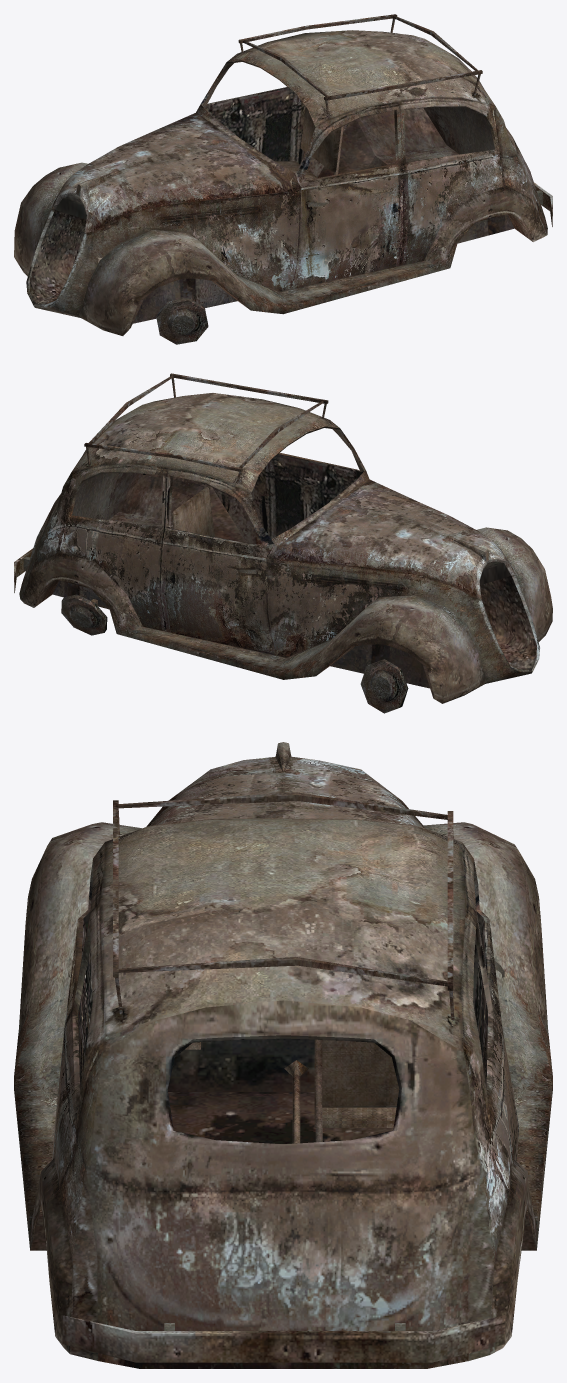
File: car_damaged.glb
The picture shows the model from 3 angles, top to bottom: view 1: azimuth 30°, elevation 25°; view 2: azimuth 150°, elevation 25°; view 3: azimuth 270°, elevation 25°; orthographic projection. The views are drawn at different scales.
Visible parts, largest first — view 1: Object_2; view 2: Object_2; view 3: Object_2.
Part boxes in pixels (x1=…): Object_2: x1=14, y1=14, x2=552, y2=344; Object_2: x1=14, y1=373, x2=552, y2=713; Object_2: x1=14, y1=742, x2=552, y2=1368.
Bounding box in the file's own units: 382 × 159 × 190.
Materials: 1 (1 with a texture image).
